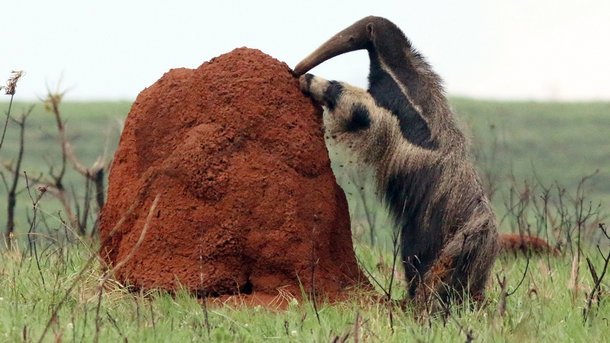TamanduaBandeira: (283, 11, 518, 312)
